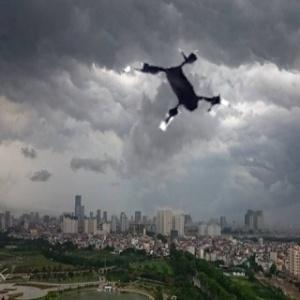drone: (110, 31, 242, 163)
